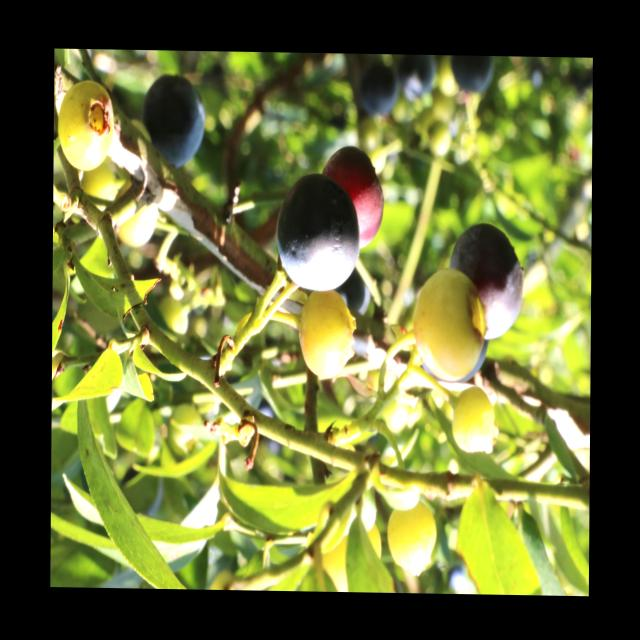blueberry: (277, 174, 364, 295), (448, 226, 527, 339), (137, 73, 212, 175)
blueberry-halfripe: (322, 140, 382, 248)
blueberry-unripe: (411, 269, 486, 383), (54, 72, 118, 172), (298, 286, 355, 381), (384, 500, 436, 576), (448, 388, 497, 460), (112, 180, 157, 251)
